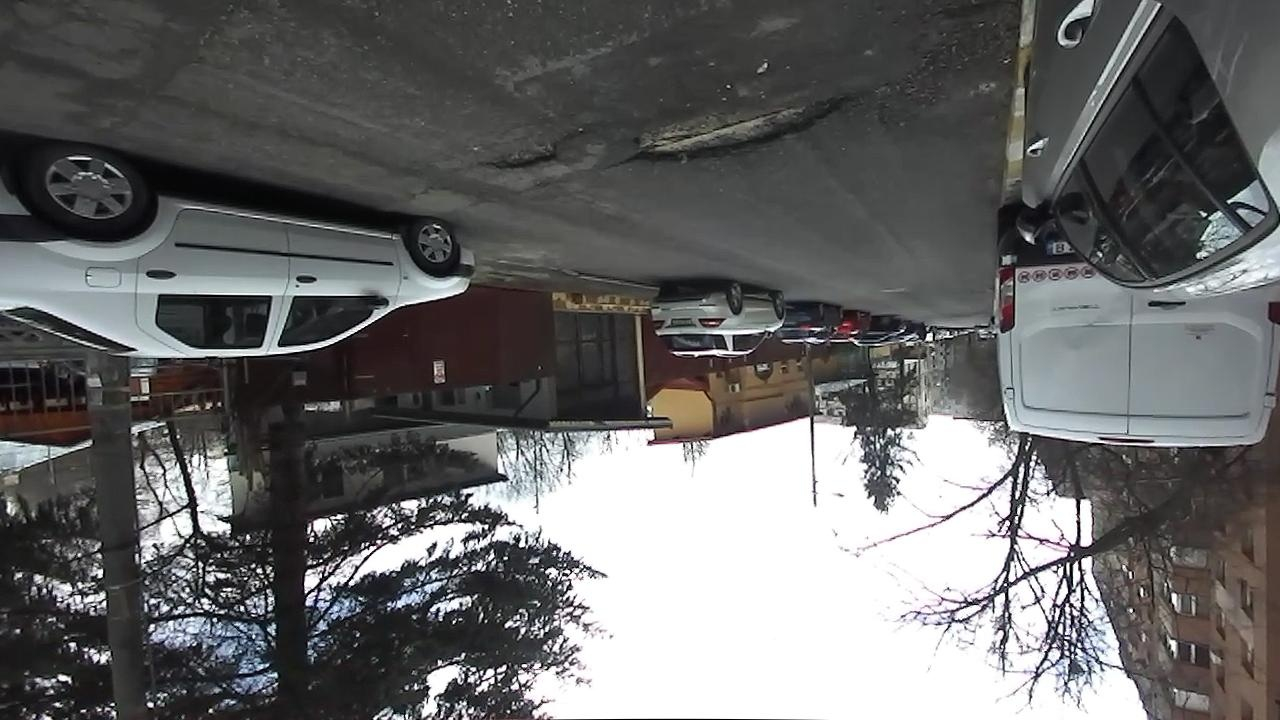pothole: (622, 82, 862, 168), (476, 132, 576, 173)
